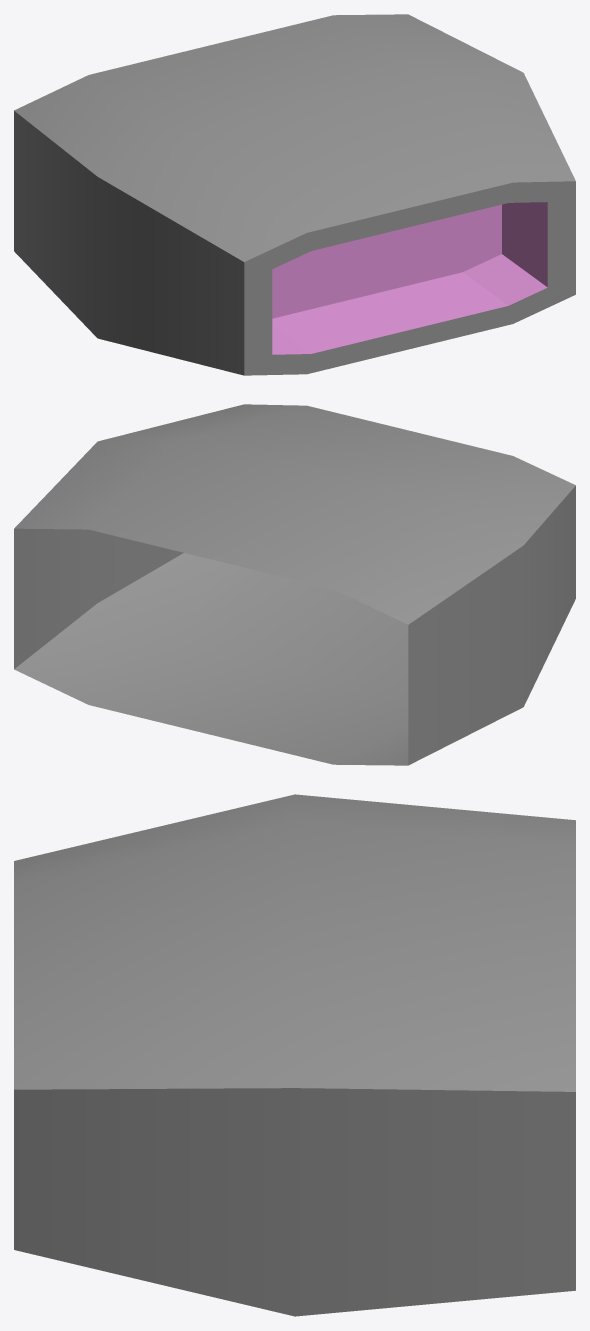
Rendered from Fighter_Engine.FBX.
3 views of the same model, one above another, from view 1: azimuth 30°, elevation 25°; view 2: azimuth 150°, elevation 25°; view 3: azimuth 270°, elevation 25° (orthographic). The views are drawn at different scales.
Parts seen in each view (by area): view 1: Engine; view 2: Engine; view 3: Engine.
Boxes of the visible parts, bbox=[...] form: Engine: bbox=[14, 14, 575, 375]; Engine: bbox=[14, 404, 575, 765]; Engine: bbox=[14, 794, 575, 1316].
Size of the model in its own units: 49.46 by 22.37 by 40.
